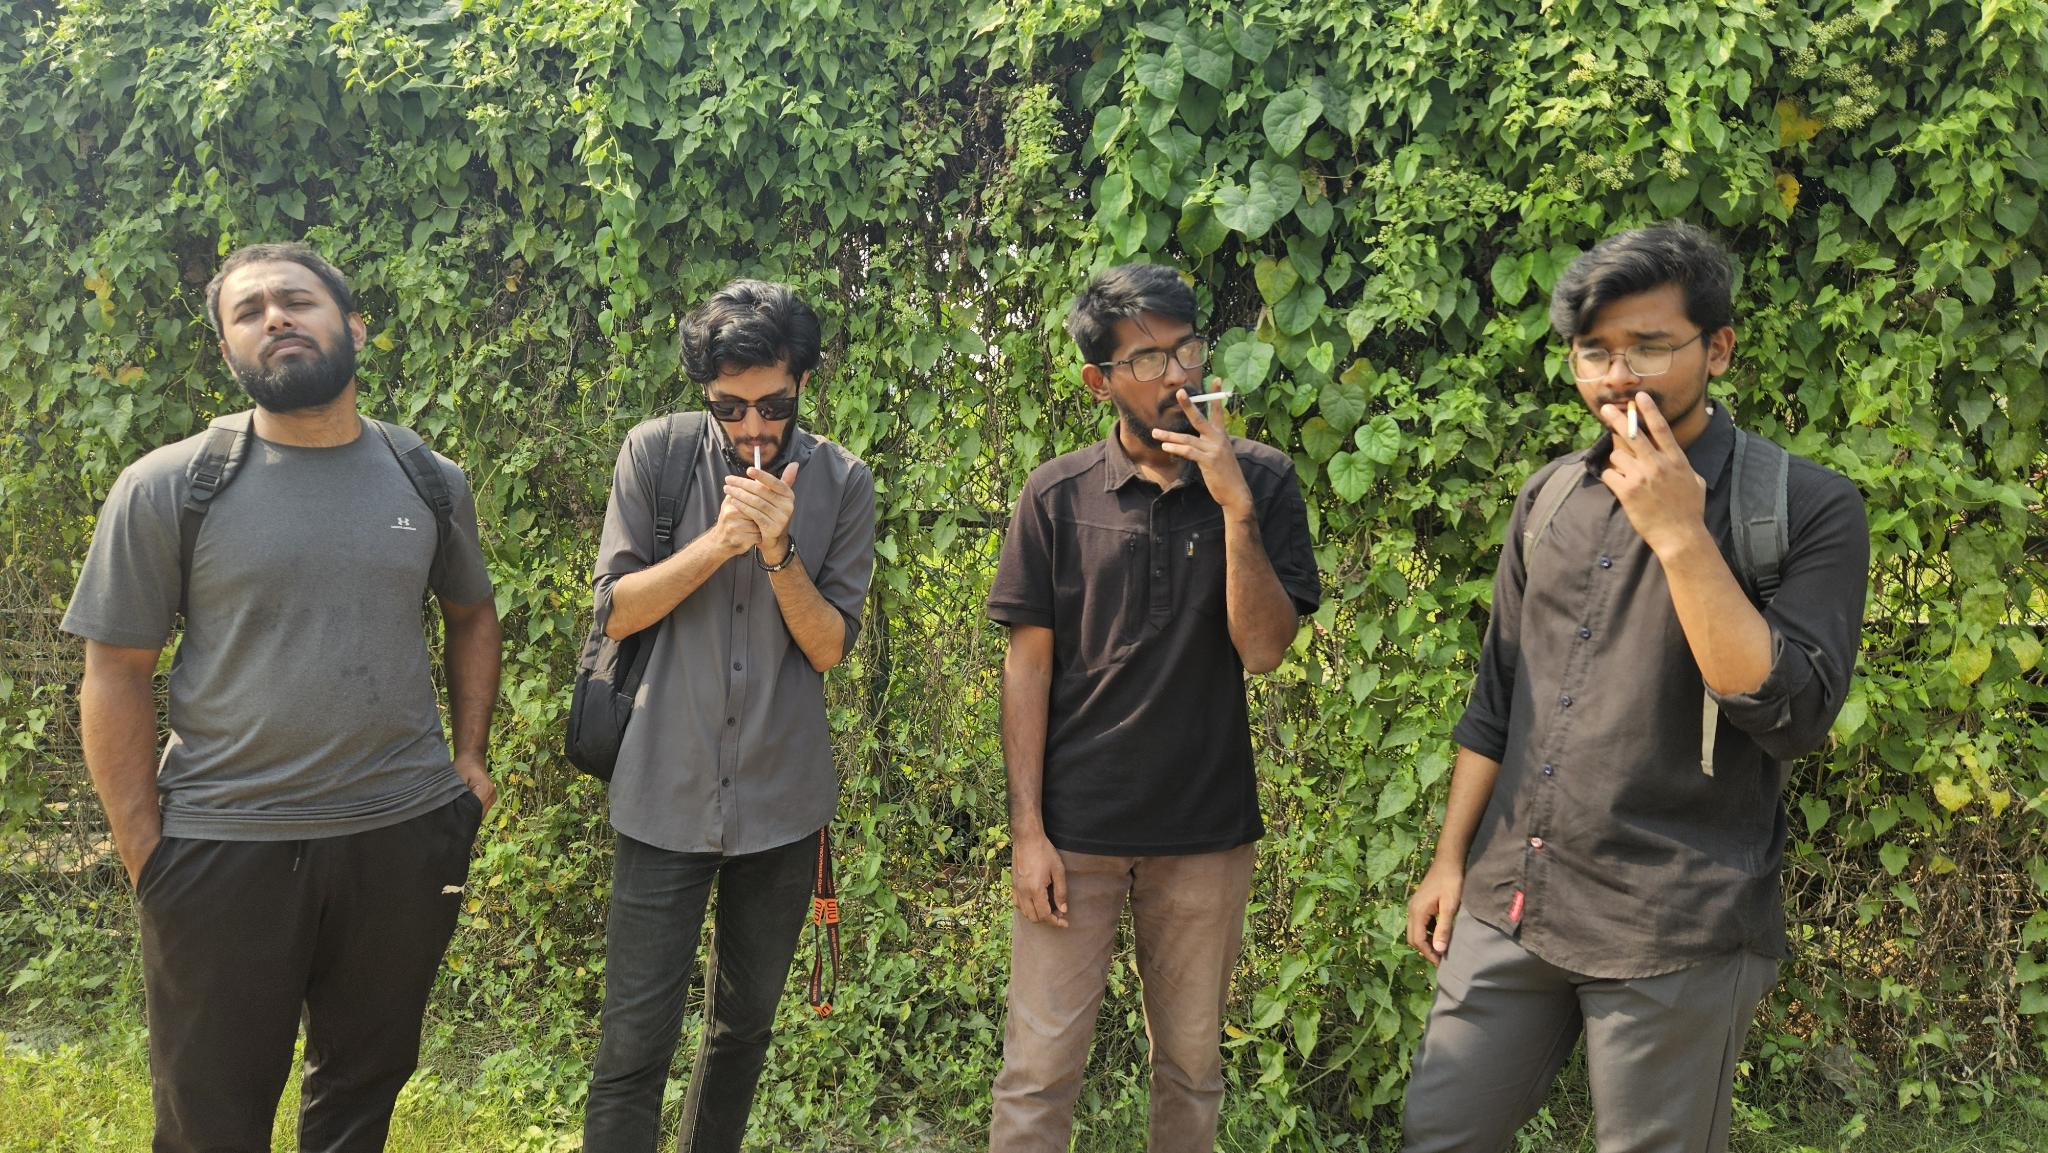cigarette: (1189, 389, 1234, 405), (1625, 399, 1640, 443), (753, 444, 761, 471)
nonSmoker: (59, 243, 504, 1153)
smoker: (1401, 228, 1869, 1153), (985, 266, 1321, 1153), (563, 278, 875, 1153)
